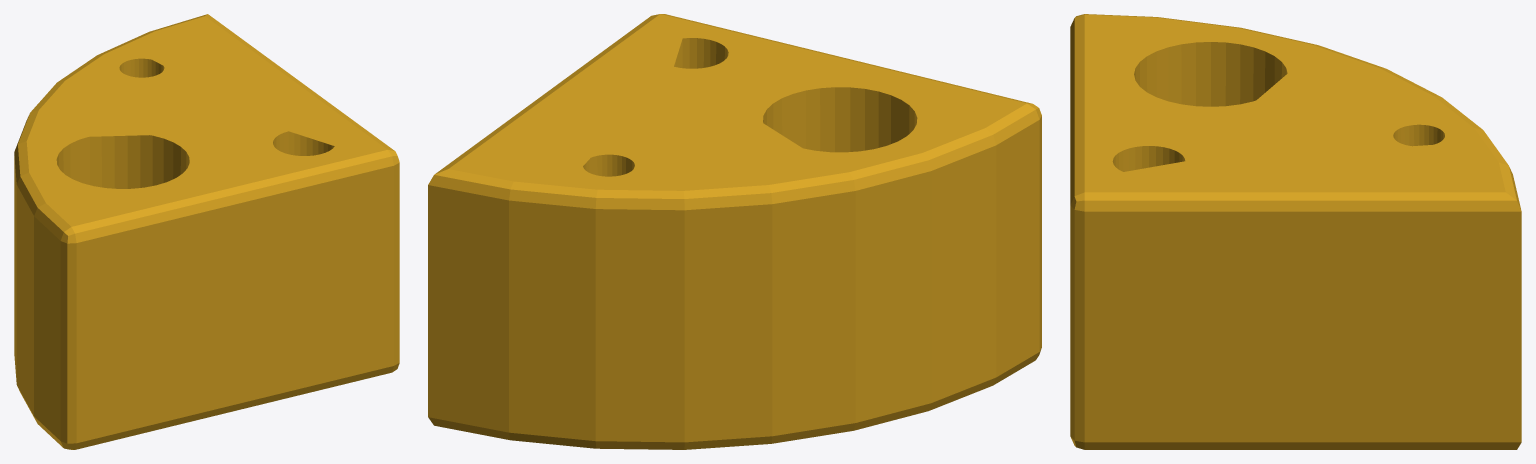
Rendered from CheeseModel.fbx.
3 views of the same model, side by side, from view 1: azimuth 30°, elevation 25°; view 2: azimuth 150°, elevation 25°; view 3: azimuth 270°, elevation 25° (orthographic). The views are drawn at different scales.
Parts seen in each view (by area): view 1: Cheese; view 2: Cheese; view 3: Cheese.
Part boxes in pixels (x1,y1,x2,y2): Cheese: (14,14,399,449); Cheese: (428,14,1041,449); Cheese: (1070,14,1521,449).
Size of the model in its own units: 40.24 by 40.37 by 25.38.
